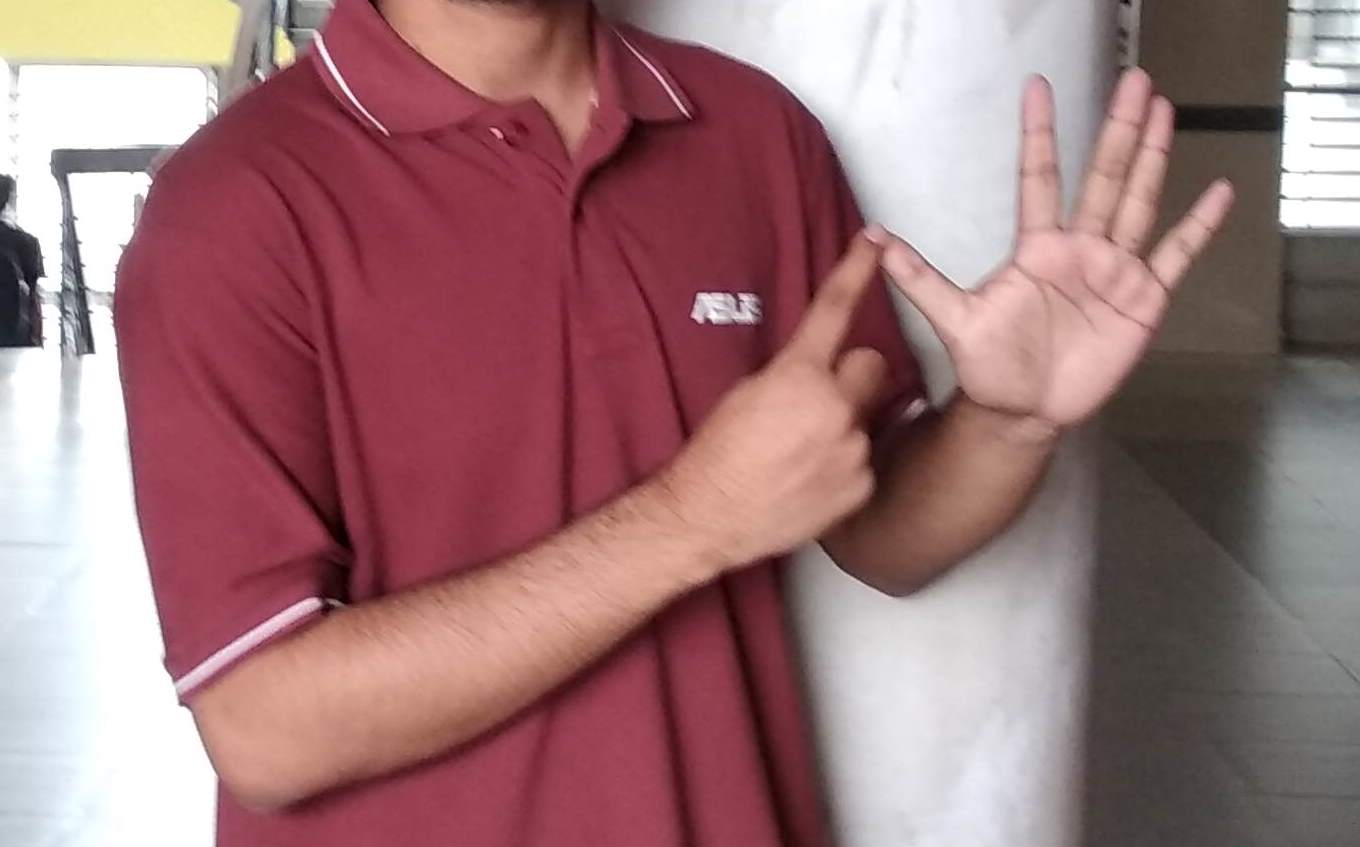a: (794, 69, 1235, 546)
